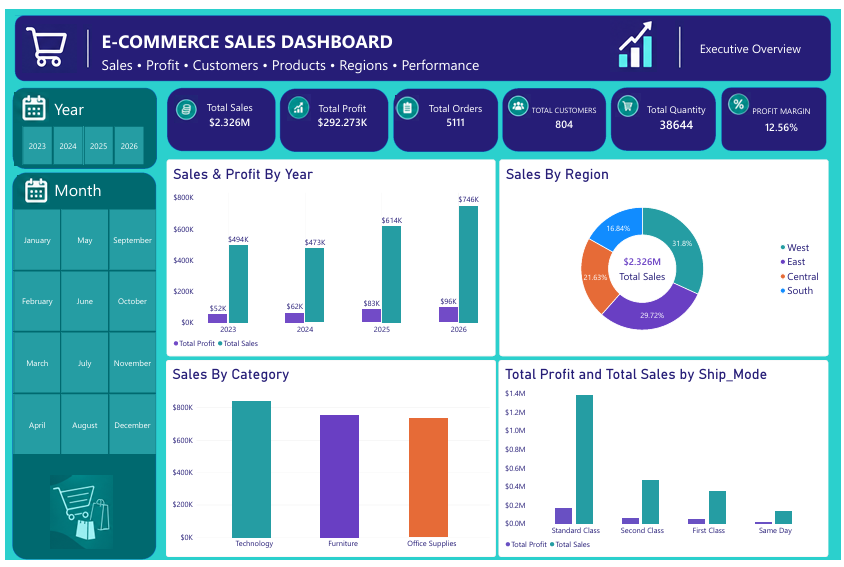

The dashboard page shown, as its layout file describes it:
{"tool":"powerbi","page":{"name":"Executive Overview","canvas":[2231,1469],"ordinal":0},"visuals":[{"type":"group","id":"g1","title":"Group 1","box":[24,17.2,2178.4,175],"z":0},{"type":"shape","box":[24,17.2,2178.4,175],"z":0,"group":"g1"},{"type":"shape","box":[1910.7,209.3,280,169.4],"z":0,"group":"g2"},{"type":"textbox","box":[255.1,52.2,1563.3,140],"z":1000,"group":"g1"},{"type":"group","id":"g2","title":"Group 2","box":[1907.3,209.3,281.3,171.5],"z":1000,"group":"g9"},{"type":"shape","box":[430.3,210.7,290,169.4],"z":1000,"group":"g6"},{"type":"cardVisual","fields":{"Data":["ecommerce_analytics ecommerce_sales.Profit Margin %"]},"box":[1957.8,235.5,224.8,122.7],"z":1000,"group":"g2"},{"type":"image","box":[34.2,40.5,166.5,128.3],"z":2000,"group":"g1"},{"type":"shape","box":[1033.9,212.7,280,169.4],"z":2000,"group":"g4"},{"type":"image","box":[1907.3,223,92.6,61.7],"z":2000,"group":"g2"},{"type":"image","box":[204.1,40.5,27.2,119.6],"z":3000,"group":"g1"},{"type":"group","id":"g3","title":"Group 4","box":[1322.7,211.5,281.3,171.5],"z":3000,"group":"g9"},{"type":"shape","box":[731.3,212.7,290,169],"z":3000,"group":"g5"},{"type":"textbox","box":[255.1,122.2,1209.8,70],"z":4000,"group":"g1"},{"type":"shape","box":[17.5,210.3,385.6,216.1],"z":4000},{"type":"shape","box":[1325.9,211.5,276.8,169.4],"z":4000,"group":"g3"},{"type":"image","box":[1588.3,27.5,175,140.7],"z":5000,"group":"g1"},{"type":"shape","box":[1615,209.3,280,169.4],"z":5000,"group":"g8"},{"type":"group","id":"g4","title":"Group 5","box":[1033.9,212.7,280,169.4],"z":5000,"group":"g7"},{"type":"image","box":[1783.9,30.9,27.4,130.4],"z":6000,"group":"g1"},{"type":"slicer","fields":{"Values":["ecommerce_analytics ecommerce_sales.Order_Year"]},"box":[23.4,309.6,365.1,108.1],"z":6000},{"type":"textbox","box":[1852.4,81.9,343.1,72],"z":7000,"group":"g1"},{"type":"group","id":"g5","title":"Group 6","box":[731.3,212.7,291.6,168.1],"z":7000,"group":"g9"},{"type":"cardVisual","fields":{"Data":["ecommerce_analytics ecommerce_sales.Total Customers"]},"box":[1385.6,243,209.9,96.1],"z":7000,"group":"g3"},{"type":"image","box":[23.4,219.1,90.5,87.6],"z":8000},{"type":"group","id":"g6","title":"Group 7","box":[430.3,210.7,290,169.4],"z":9000,"group":"g9"},{"type":"cardVisual","fields":{"Data":["ecommerce_analytics ecommerce_sales.Total Profit"]},"box":[784.9,230.5,226.8,107.8],"z":9000,"group":"g5"},{"type":"cardVisual","fields":{"Data":["ecommerce_analytics ecommerce_sales.Total Sales"]},"box":[497,234.1,200,99.3],"z":10000,"group":"g6"},{"type":"textbox","box":[128.5,236.6,119.8,73],"z":10000},{"type":"shape","box":[17.2,435.7,384.2,1032.6],"z":11000},{"type":"slicer","fields":{"Values":["ecommerce_analytics ecommerce_sales.Order_Month_Name"]},"box":[0,531.7,418.5,658.7],"z":12000},{"type":"image","box":[1322.7,228.7,93.7,61.7],"z":12002,"group":"g3"},{"type":"image","box":[734.6,227.3,96.7,69.9],"z":12006,"group":"g5"},{"type":"image","box":[433.5,231.3,96.3,72],"z":12008,"group":"g6"},{"type":"image","box":[1615,226.5,92.6,61.7],"z":13000,"group":"g8"},{"type":"image","box":[26.3,444,96.4,78.9],"z":13000},{"type":"textbox","box":[128.5,452.7,146,70.1],"z":14000},{"type":"image","box":[41.2,1245.3,322.5,195.5],"z":15000},{"type":"clusteredColumnChart","title":"Sales & Profit By Year ","fields":{"Category":["ecommerce_analytics ecommerce_sales.Order_Year"],"Y":["ecommerce_analytics ecommerce_sales.Total Profit","ecommerce_analytics ecommerce_sales.Total Sales"]},"box":[428.8,401.4,878,525],"z":16000},{"type":"donutChart","title":"    Sales By Region","fields":{"Category":["ecommerce_analytics ecommerce_sales.Region"],"Y":["ecommerce_analytics ecommerce_sales.Total Sales"]},"box":[1317.3,401.4,878.2,525],"z":17000},{"type":"clusteredColumnChart","title":"Sales By Category","fields":{"Category":["ecommerce_analytics ecommerce_sales.Category"],"Y":["ecommerce_analytics ecommerce_sales.Total Sales"]},"box":[426.7,936,880.9,526.5],"z":18000},{"type":"clusteredColumnChart","fields":{"Category":["ecommerce_analytics ecommerce_sales.Ship_Mode"],"Y":["ecommerce_analytics ecommerce_sales.Total Profit","ecommerce_analytics ecommerce_sales.Total Sales"]},"box":[1314.5,936,880.9,526.5],"z":19000},{"type":"cardVisual","fields":{"Data":["ecommerce_analytics ecommerce_sales.Total Orders"]},"box":[1101.8,222.3,196,123.5],"z":20001,"group":"g7"},{"type":"image","box":[1040.5,223,62.9,82.3],"z":21002,"group":"g7"},{"type":"group","id":"g7","title":"Group 8","box":[1033.9,212.7,277.9,168.1],"z":21003,"group":"g9"},{"type":"cardVisual","fields":{"Data":["ecommerce_analytics ecommerce_sales.Total Quantity"]},"box":[1692.4,243.2,195,90],"z":22005,"group":"g8"},{"type":"group","id":"g8","title":"Group 3","box":[1615,209.3,281.3,168.1],"z":22006,"group":"g9"},{"type":"group","id":"g9","title":"Group 9","box":[430.3,209.3,1758.3,173.8],"z":22007}]}

Visuals, with their boxes in screenshot pixels (x1, y1, x2, y2), scaled from the page's 2231x1469 canvas onto the 844x567 screenshot:
"Group 1" group: [x1=9, y1=7, x2=833, y2=74]
shape: [x1=9, y1=7, x2=833, y2=74]
shape: [x1=723, y1=81, x2=829, y2=146]
textbox: [x1=97, y1=20, x2=688, y2=74]
"Group 2" group: [x1=722, y1=81, x2=828, y2=147]
shape: [x1=163, y1=81, x2=272, y2=147]
cardVisual - ecommerce_analytics ecommerce_sales.Profit Margin %: [x1=741, y1=91, x2=826, y2=138]
image: [x1=13, y1=16, x2=76, y2=65]
shape: [x1=391, y1=82, x2=497, y2=147]
image: [x1=722, y1=86, x2=757, y2=110]
image: [x1=77, y1=16, x2=88, y2=62]
"Group 4" group: [x1=500, y1=82, x2=607, y2=148]
shape: [x1=277, y1=82, x2=386, y2=147]
textbox: [x1=97, y1=47, x2=554, y2=74]
shape: [x1=7, y1=81, x2=152, y2=165]
shape: [x1=502, y1=82, x2=606, y2=147]
image: [x1=601, y1=11, x2=667, y2=65]
shape: [x1=611, y1=81, x2=717, y2=146]
"Group 5" group: [x1=391, y1=82, x2=497, y2=147]
image: [x1=675, y1=12, x2=685, y2=62]
slicer - ecommerce_analytics ecommerce_sales.Order_Year: [x1=9, y1=119, x2=147, y2=161]
textbox: [x1=701, y1=32, x2=831, y2=59]
"Group 6" group: [x1=277, y1=82, x2=387, y2=147]
cardVisual - ecommerce_analytics ecommerce_sales.Total Customers: [x1=524, y1=94, x2=604, y2=131]
image: [x1=9, y1=85, x2=43, y2=118]
"Group 7" group: [x1=163, y1=81, x2=272, y2=147]
cardVisual - ecommerce_analytics ecommerce_sales.Total Profit: [x1=297, y1=89, x2=383, y2=131]
cardVisual - ecommerce_analytics ecommerce_sales.Total Sales: [x1=188, y1=90, x2=264, y2=129]
textbox: [x1=49, y1=91, x2=94, y2=119]
shape: [x1=7, y1=168, x2=152, y2=566]
slicer - ecommerce_analytics ecommerce_sales.Order_Month_Name: [x1=0, y1=205, x2=158, y2=459]
image: [x1=500, y1=88, x2=536, y2=112]
image: [x1=278, y1=88, x2=314, y2=115]
image: [x1=164, y1=89, x2=200, y2=117]
image: [x1=611, y1=87, x2=646, y2=111]
image: [x1=10, y1=171, x2=46, y2=202]
textbox: [x1=49, y1=175, x2=104, y2=202]
image: [x1=16, y1=481, x2=138, y2=556]
"Sales & Profit By Year " clusteredColumnChart: [x1=162, y1=155, x2=494, y2=358]
"    Sales By Region" donutChart: [x1=498, y1=155, x2=831, y2=358]
"Sales By Category" clusteredColumnChart: [x1=161, y1=361, x2=495, y2=564]
clusteredColumnChart - ecommerce_analytics ecommerce_sales.Ship_Mode x ecommerce_analytics ecommerce_sales.Total Profit: [x1=497, y1=361, x2=831, y2=564]
cardVisual - ecommerce_analytics ecommerce_sales.Total Orders: [x1=417, y1=86, x2=491, y2=133]
image: [x1=394, y1=86, x2=417, y2=118]
"Group 8" group: [x1=391, y1=82, x2=496, y2=147]
cardVisual - ecommerce_analytics ecommerce_sales.Total Quantity: [x1=640, y1=94, x2=714, y2=129]
"Group 3" group: [x1=611, y1=81, x2=717, y2=146]
"Group 9" group: [x1=163, y1=81, x2=828, y2=148]
